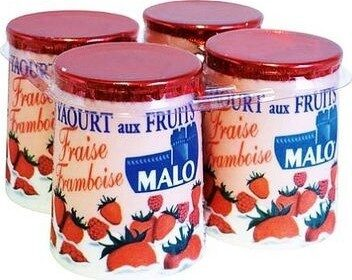Yaourt aux fruits fraises et framboises: (18, 14, 334, 266)
